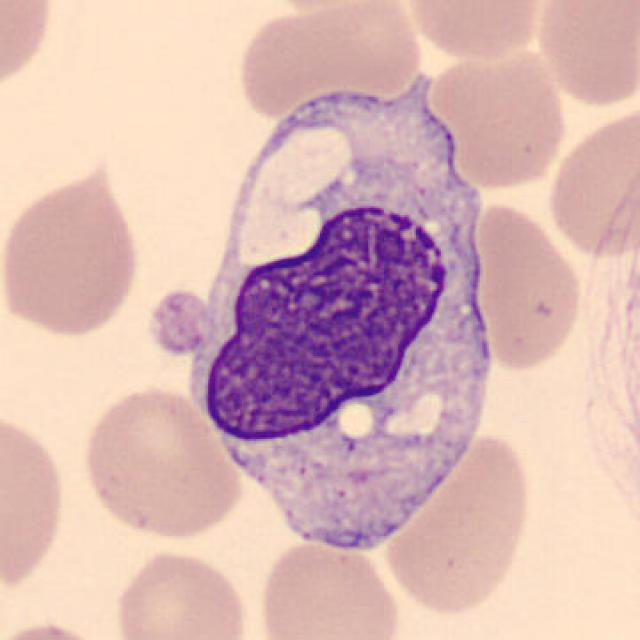Monocyte: (180, 78, 510, 568)
Platelets: (144, 286, 217, 360)
RBC: (379, 430, 535, 617), (0, 152, 148, 342), (77, 383, 247, 543), (231, 0, 423, 120), (423, 41, 571, 192), (468, 197, 586, 374), (254, 536, 404, 640), (542, 104, 636, 261), (0, 404, 71, 599), (110, 545, 252, 640), (531, 0, 640, 111), (399, 0, 549, 63), (0, 0, 58, 102), (0, 617, 119, 640), (249, 0, 407, 16)
